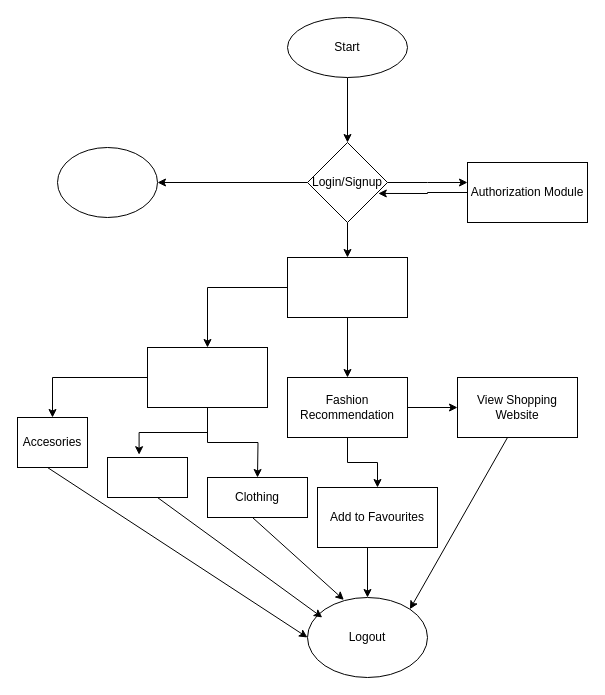
The diagram is 605 pixels wide and 695 high, and some of its shapes have lost their labels. The shapes that lost their labels are listed below. From the top down, each one's box as (x1, y1, x2, y2) in pixels, then its label:
(56, 146, 158, 218): End
(286, 256, 408, 318): Home Screen
(146, 346, 268, 408): Virtual Try on Module
(106, 456, 188, 498): Hairstyle
